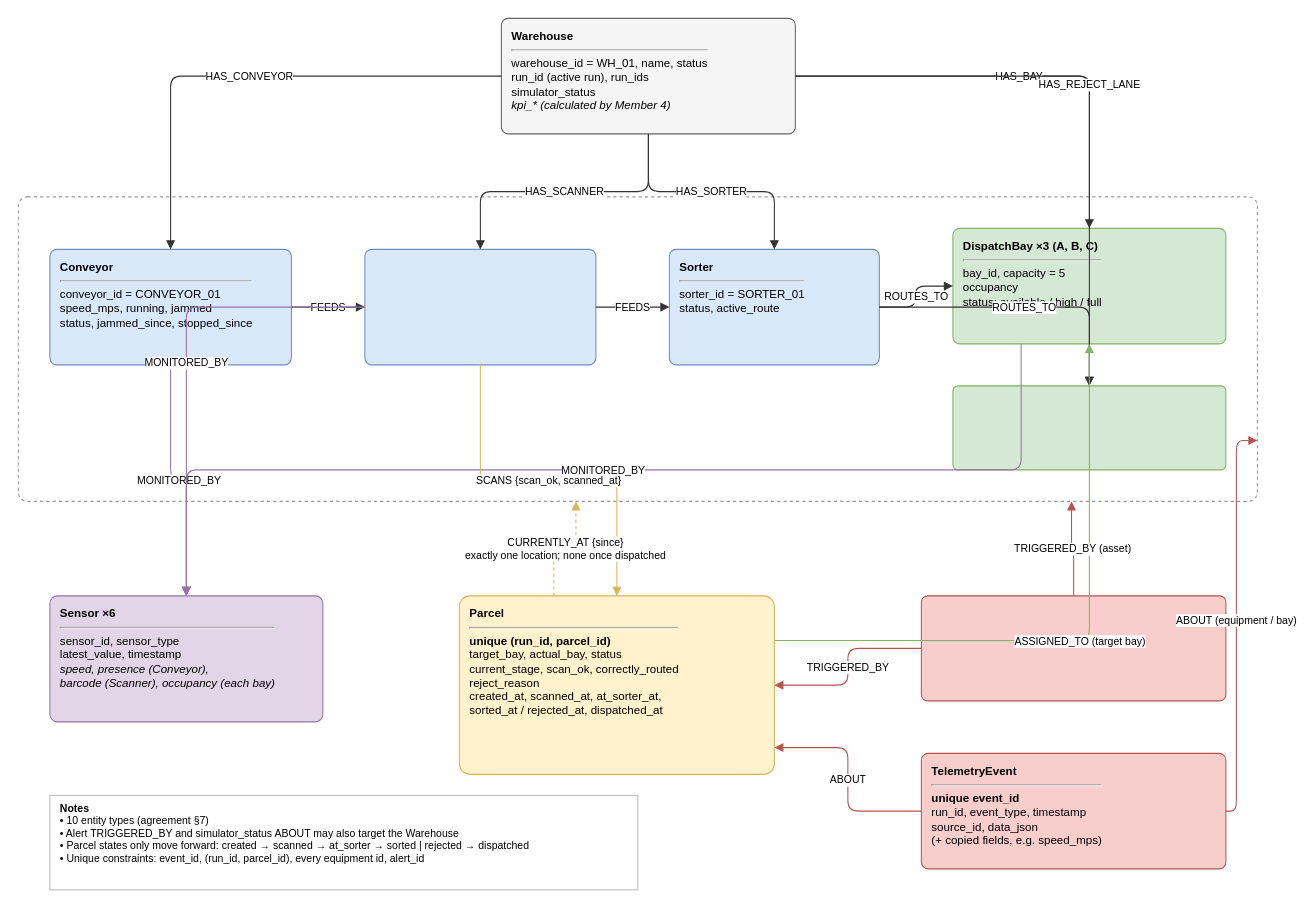
Image size: 1315x908. Some labels were removed from this diagram. The box of each missing label's shape, as (x1, y1, x2, y2) in pixels:
Alert alert_id, run_id, type, severity message, active triggered_at, resolved_at: (920, 595, 1226, 701)
Equipment & destinations (possible CURRENTLY_AT / TRIGGERED_BY / ABOUT targets): (17, 196, 1257, 501)
RejectLane lane_id = REJECT_LANE_01 rejected_count: (952, 385, 1226, 470)
Scanner scanner_id = SCANNER_01 status successful_scans, failed_scans: (364, 248, 596, 365)
